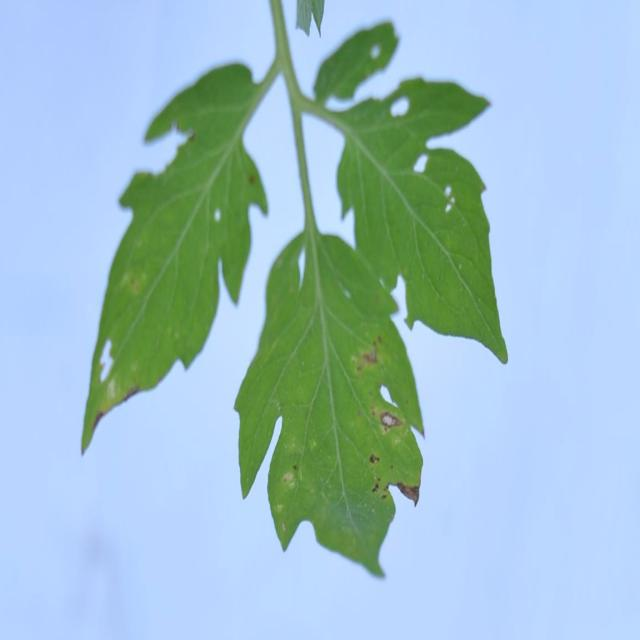infected: (284, 252, 425, 574), (91, 172, 267, 394), (361, 31, 482, 294)
